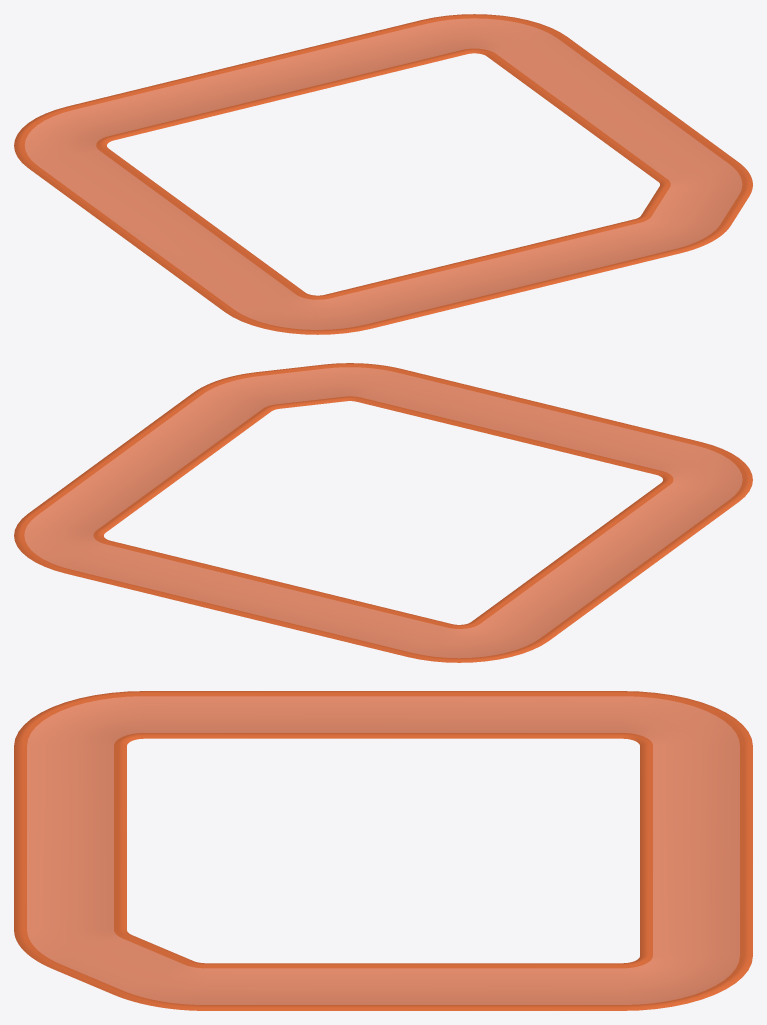
The model's file is Pista2.fbx.
3 renders of one model, top to bottom at view 1: azimuth 30°, elevation 25°; view 2: azimuth 150°, elevation 25°; view 3: azimuth 270°, elevation 25°, orthographic. The views are drawn at different scales.
Parts seen in each view (by area): view 1: Plane.002; view 2: Plane.002; view 3: Plane.002.
Boxes of the visible parts, <box> form: Plane.002: <box>14,14,752,334</box>; Plane.002: <box>14,363,752,662</box>; Plane.002: <box>14,691,752,1010</box>.
Bounding box in the file's own units: 17414 × 40.58 × 17000.
